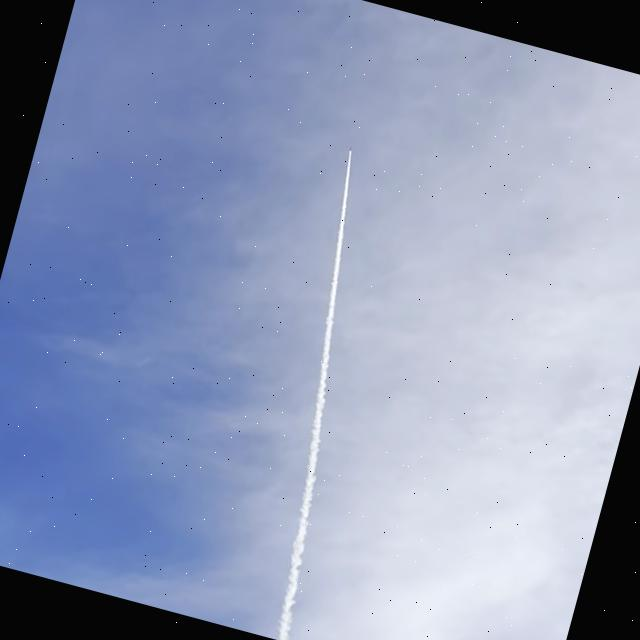smoke_trail_with_rocket: (277, 157, 350, 640)
